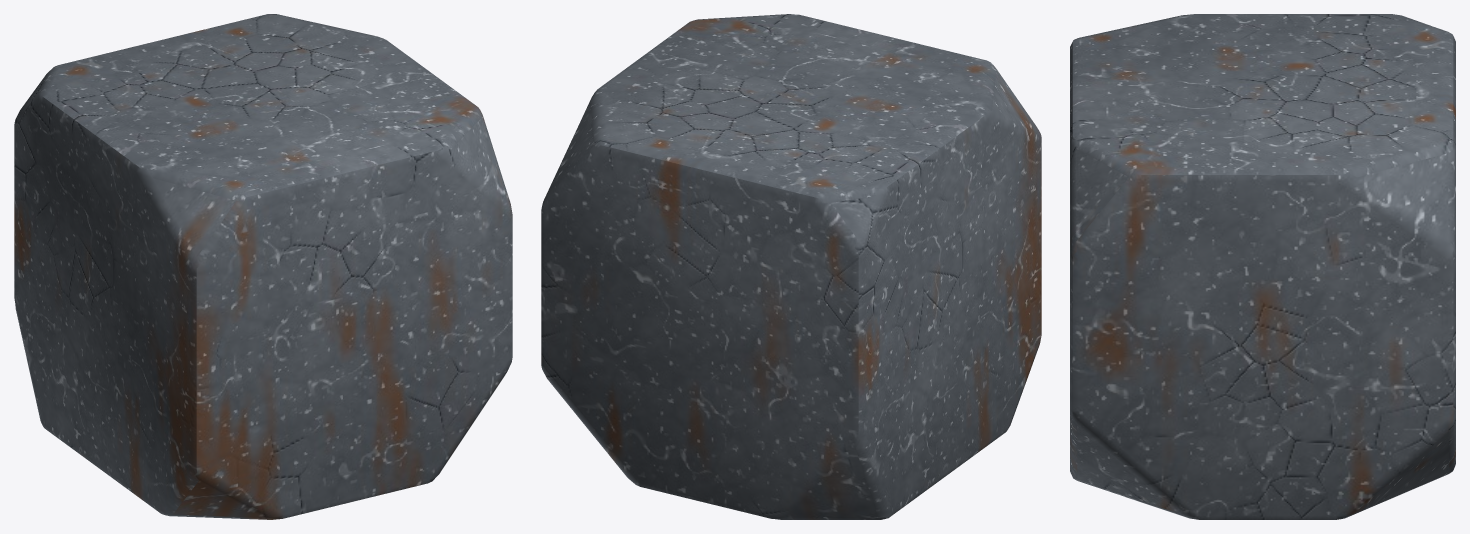
Rendered from metal_boulder.glb.
The picture shows the model from 3 angles, left to right: view 1: azimuth 30°, elevation 25°; view 2: azimuth 150°, elevation 25°; view 3: azimuth 270°, elevation 25°; orthographic projection. The views are drawn at different scales.
Visible parts, largest first — view 1: MetalBoulder; view 2: MetalBoulder; view 3: MetalBoulder.
Boxes of the visible parts, bbox=[...] form: MetalBoulder: bbox=[14, 14, 512, 519]; MetalBoulder: bbox=[541, 14, 1041, 519]; MetalBoulder: bbox=[1070, 14, 1455, 519].
Size of the model in its own units: 1 by 1 by 1.
1 material, 1 textured.
